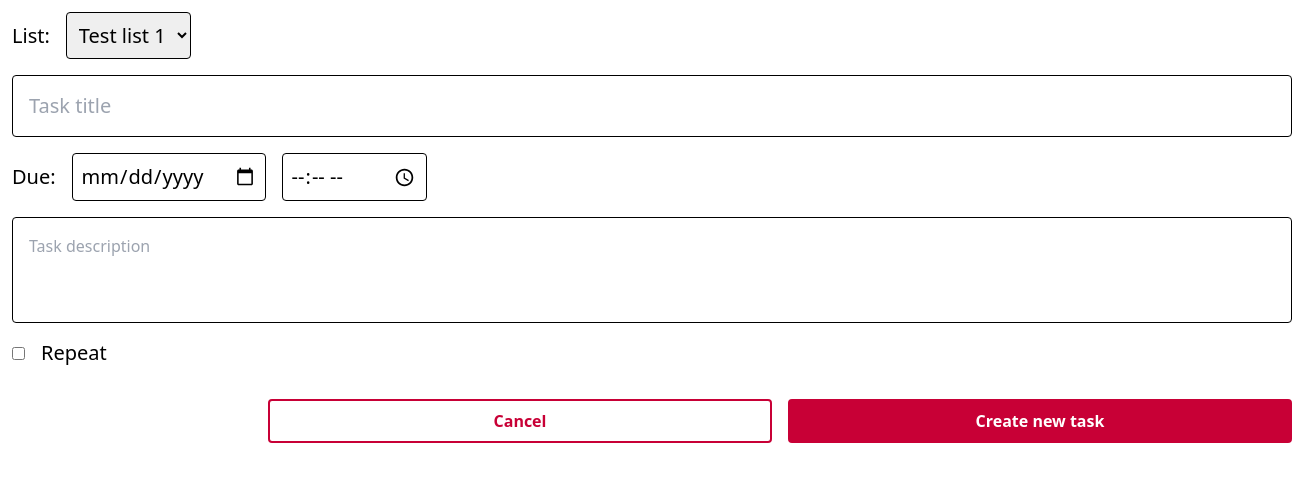
Scenario: New task modal form component › doesn't allow user to set a due time with a corresponding date
Type "test task" into the field with placeholder "Task title".
click(652, 106); type("test task")  # box [12,75,1292,137]
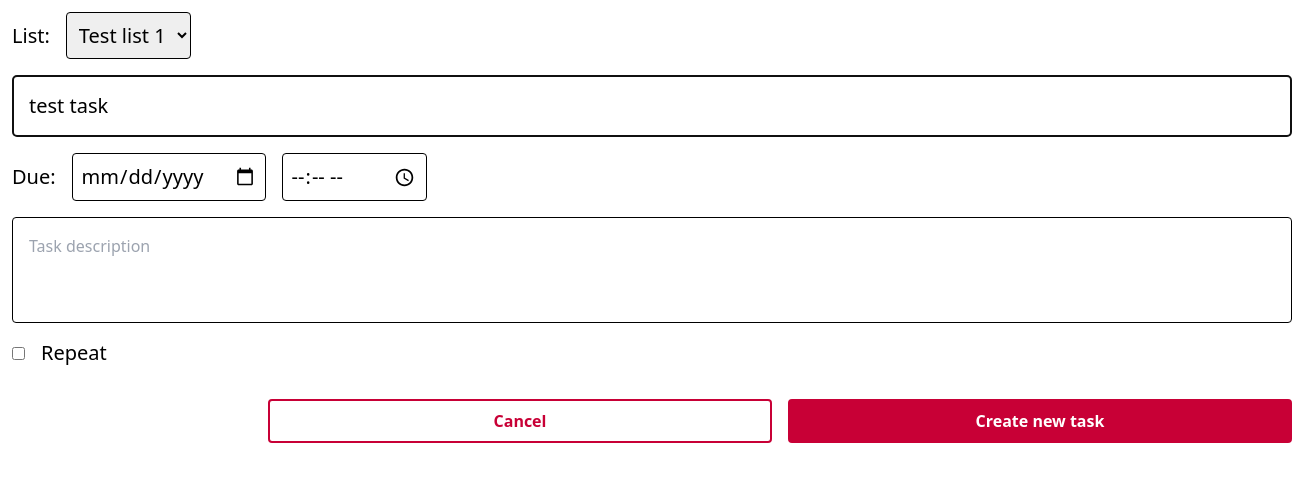
Type "09:20" into the time field with id "time".
click(354, 177); type("09:20")  # box [282,153,427,201]
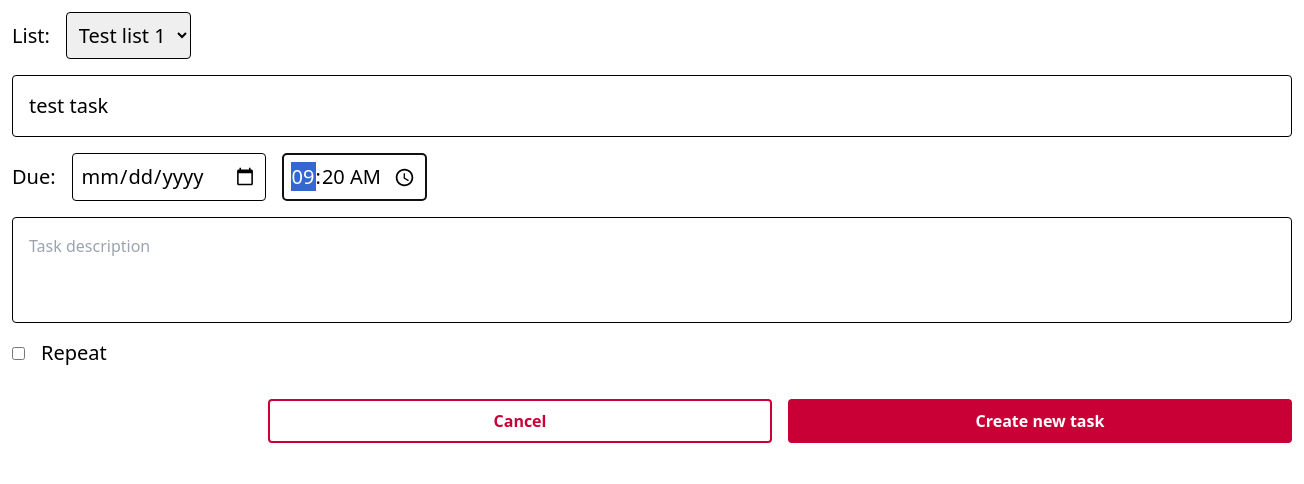
Click the button "Create new task".
click(1040, 421)  # box [788,399,1292,443]
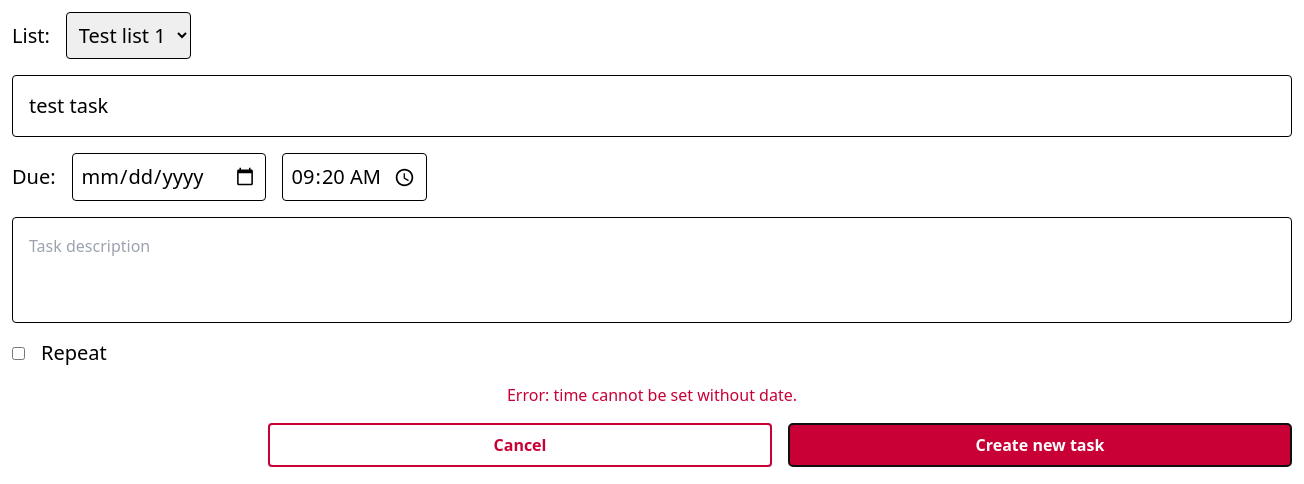
Result: the text "Error: time cannot be set without date." is shown at [507,384,797,406]
